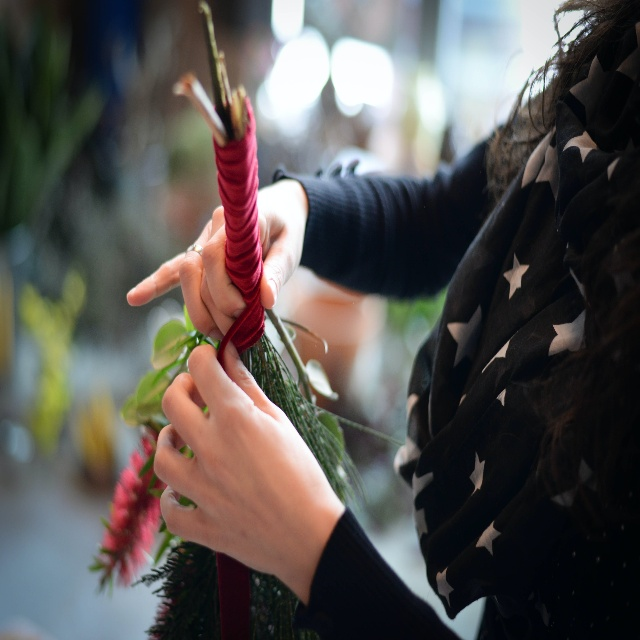Sin_guantes: (153, 340, 324, 576), (126, 177, 306, 341)
